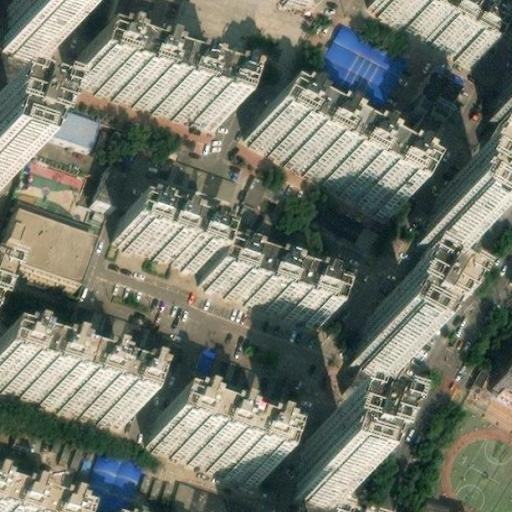building: (241, 108, 397, 211), (75, 44, 229, 121), (200, 252, 333, 324), (149, 410, 273, 479), (367, 0, 491, 61), (1, 200, 96, 279), (417, 170, 496, 253), (291, 423, 370, 506), (114, 205, 216, 268), (352, 294, 430, 376), (409, 58, 468, 130), (324, 34, 402, 88), (333, 17, 412, 70), (80, 446, 141, 509), (322, 55, 393, 105), (1, 0, 69, 51), (0, 17, 32, 115), (39, 95, 101, 140), (489, 52, 512, 120), (91, 158, 124, 201), (214, 169, 240, 194), (415, 498, 457, 512), (111, 0, 137, 17)
